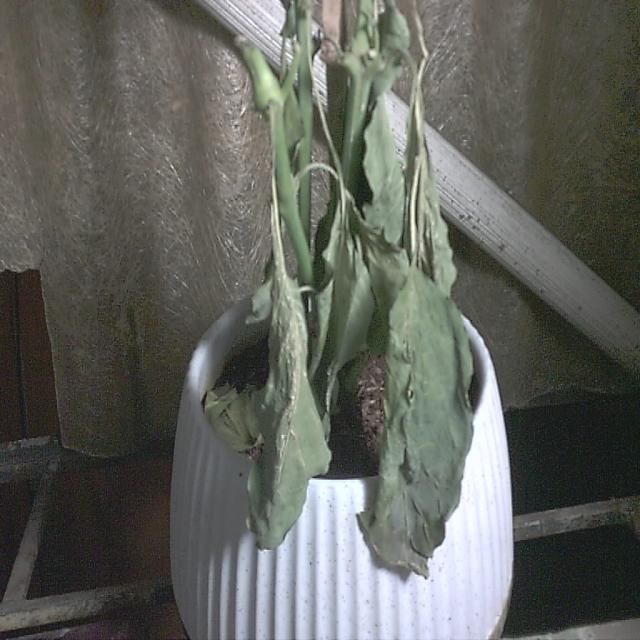Leaf: (355, 270, 476, 580), (244, 270, 331, 553)
